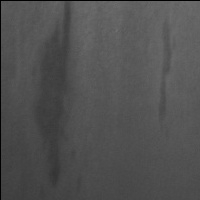inclusion: (30, 2, 74, 190), (155, 16, 181, 137)
